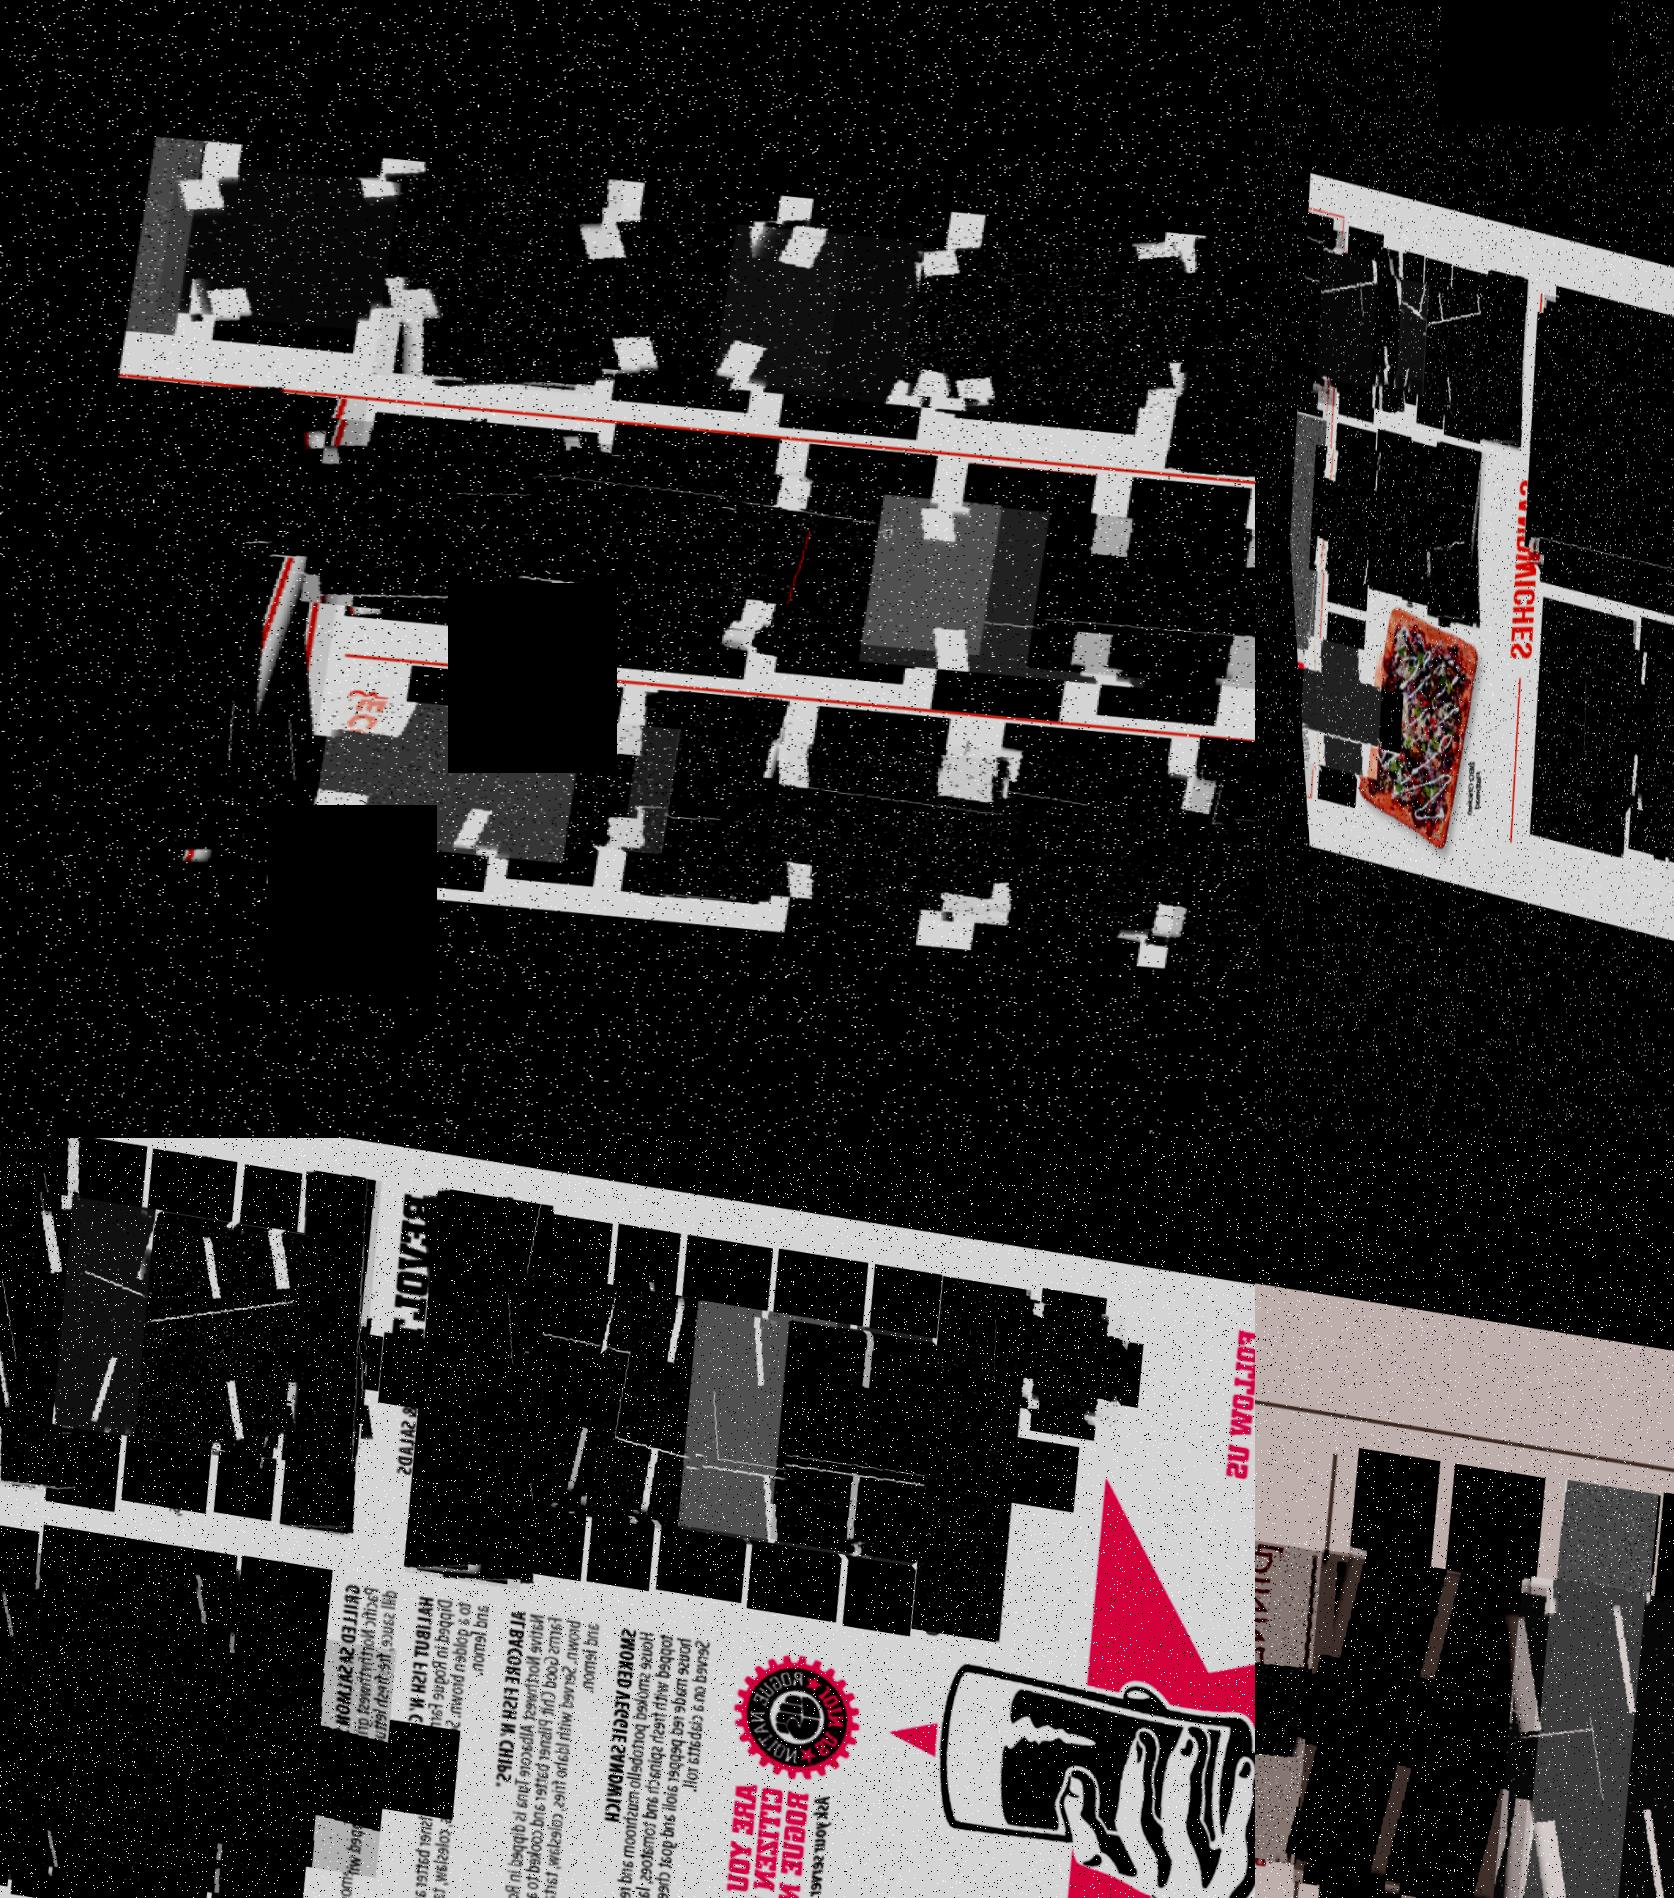Menu-Items: (52, 373, 420, 887), (1255, 1544, 1672, 1898), (1255, 1533, 1564, 1898), (0, 1538, 304, 1898), (1449, 1483, 1674, 1898), (355, 1190, 577, 1602), (252, 414, 654, 636), (397, 1258, 700, 1546), (464, 444, 856, 662), (646, 1302, 945, 1585), (19, 1194, 317, 1475), (556, 1287, 848, 1564), (105, 1610, 397, 1887), (850, 741, 1226, 951), (105, 1211, 391, 1483), (478, 1278, 764, 1549), (328, 157, 648, 399), (861, 225, 1231, 430), (738, 1326, 1020, 1591), (1446, 1572, 1674, 1898), (810, 494, 1171, 695), (674, 221, 1031, 420), (866, 1283, 1054, 1654), (509, 202, 860, 396), (0, 1182, 234, 1468), (664, 472, 1005, 661), (667, 733, 1003, 921), (236, 1173, 404, 1544), (414, 1604, 624, 1898), (123, 158, 452, 339), (318, 1593, 509, 1898), (524, 1623, 735, 1898), (259, 690, 577, 867), (1508, 291, 1674, 622), (979, 509, 1255, 699), (559, 688, 797, 908), (252, 1580, 415, 1898), (397, 708, 675, 861), (0, 1139, 110, 1502), (1096, 738, 1255, 987), (1506, 596, 1643, 866), (1113, 237, 1255, 489), (0, 1560, 108, 1845), (86, 134, 226, 336), (0, 1152, 84, 1442), (986, 1307, 1126, 1439), (1582, 643, 1674, 840), (1304, 246, 1411, 405), (1409, 441, 1488, 636), (1412, 281, 1512, 433), (1294, 441, 1394, 593), (1288, 632, 1383, 788), (1277, 412, 1331, 653), (1464, 270, 1533, 456), (1283, 221, 1351, 410), (1338, 444, 1428, 582), (1385, 278, 1474, 410), (1369, 457, 1457, 590), (1359, 247, 1414, 417), (1638, 645, 1674, 897), (1369, 271, 1445, 388)
